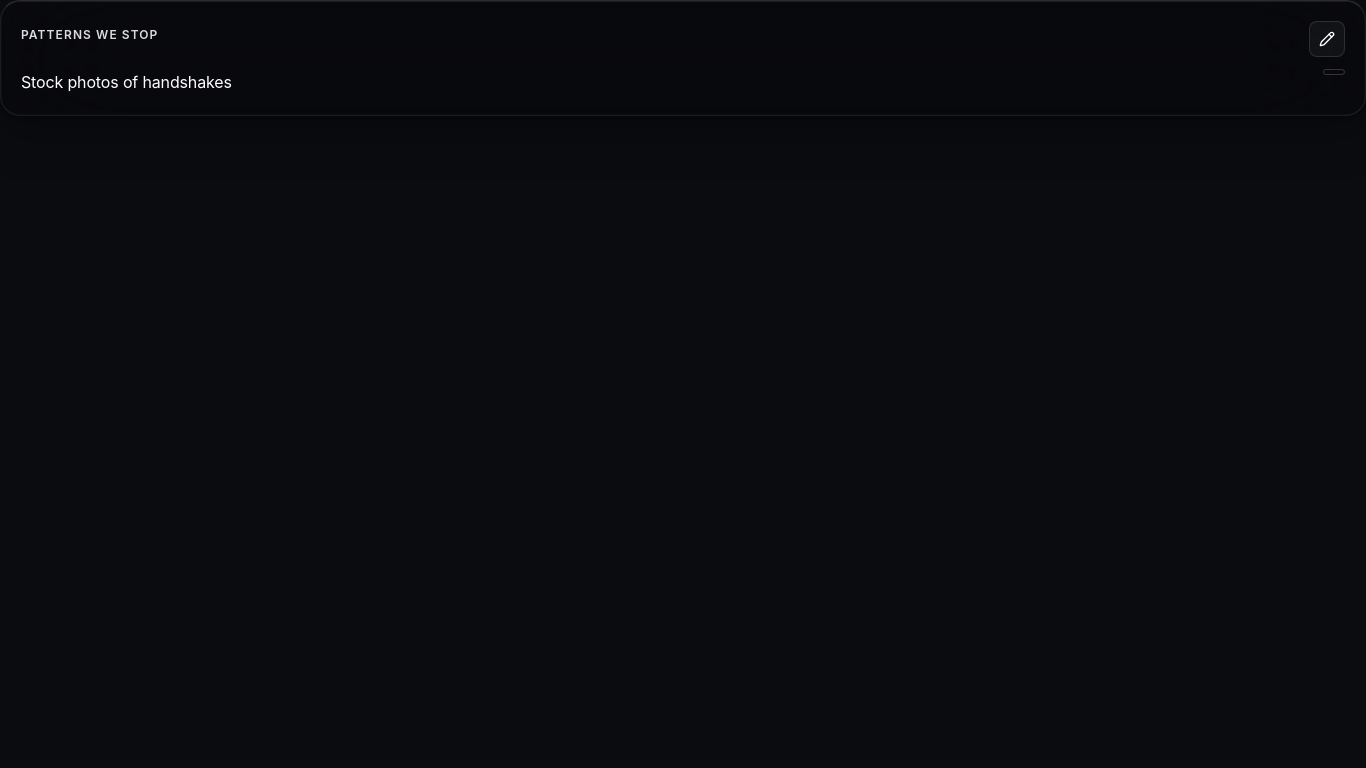
does not lose a failed save because the sheet was closed while it was being sent
Click the button named "Edit what we avoid" at (1327, 39), box [1309,21,1345,57]
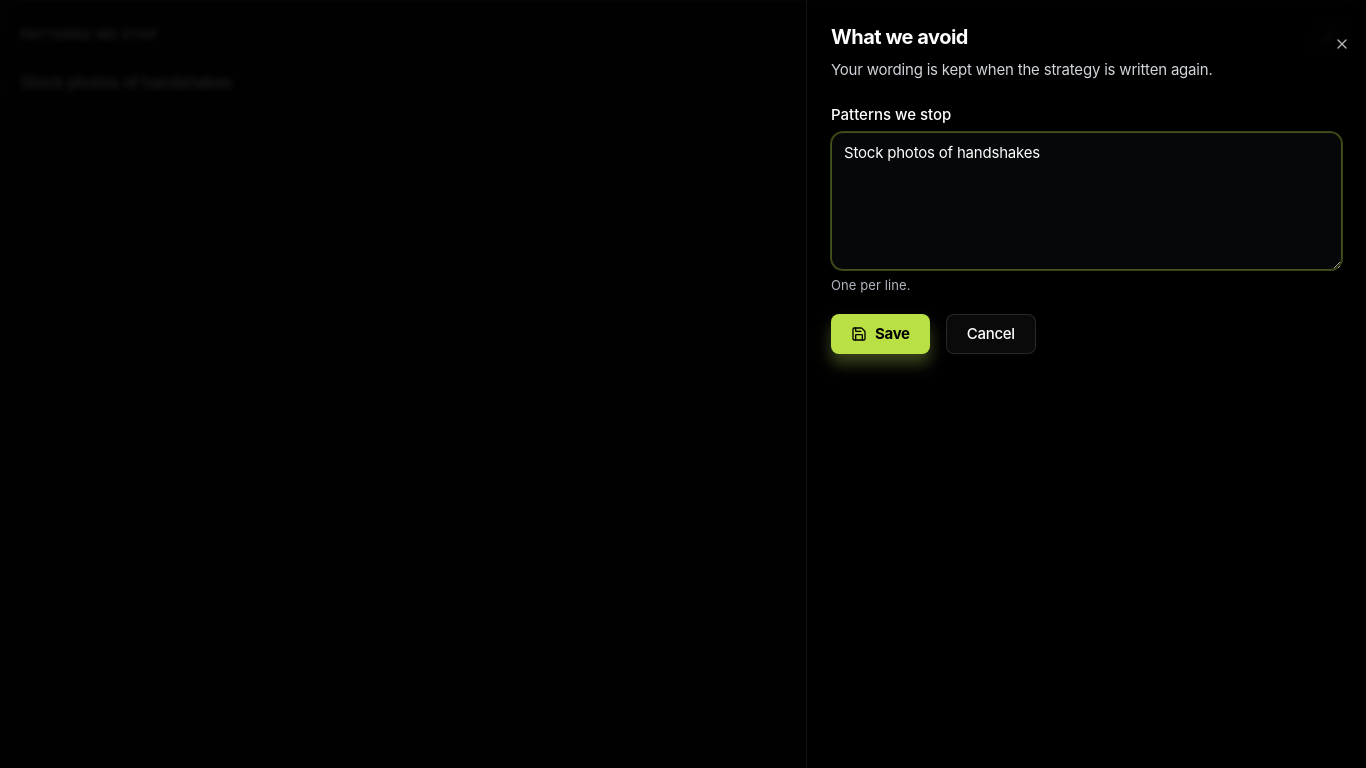
Replace the text in the text box labelled "Patterns we stop" with "Long captions with no hook" at (1086, 201), box [831,132,1342,270]
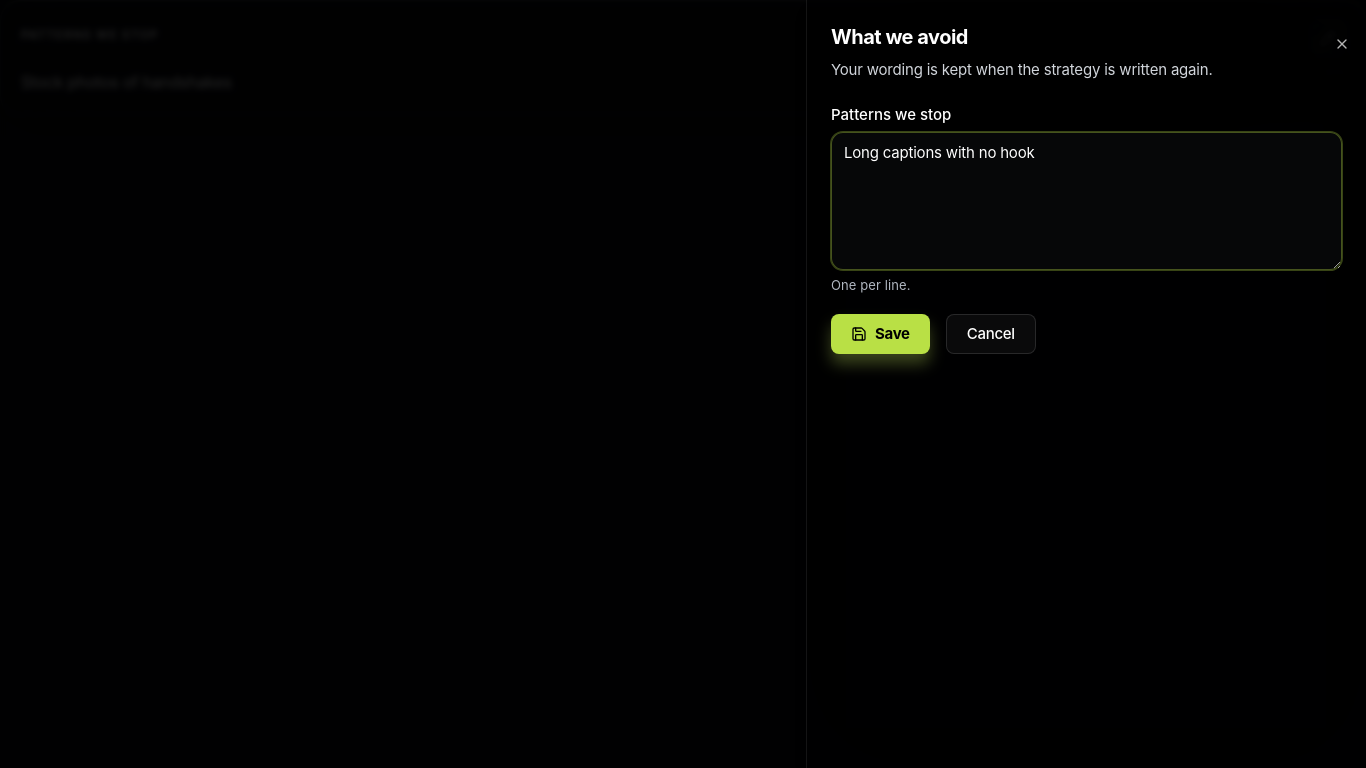
Click the button "Save" at (880, 334), box [831,314,930,354]
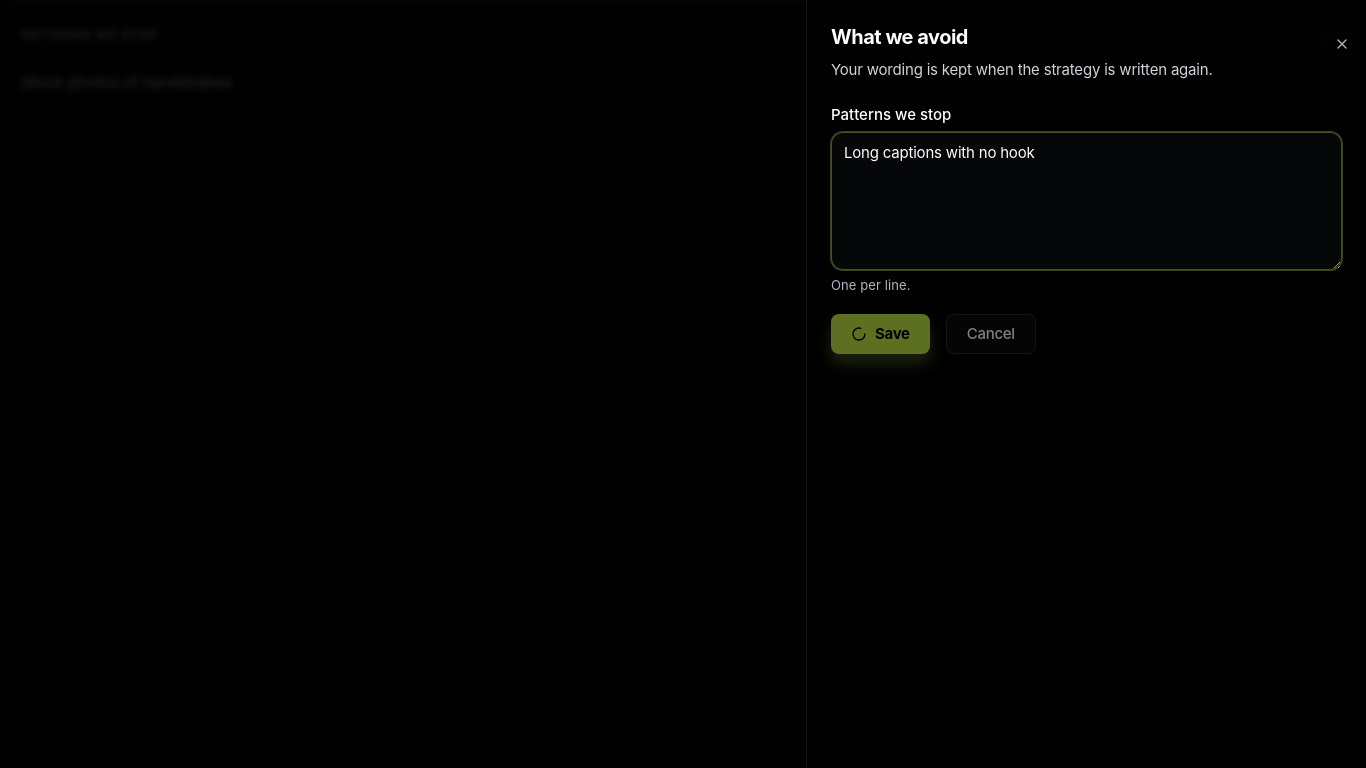
Press Escape in the text box labelled "Patterns we stop", box [831,132,1342,270]
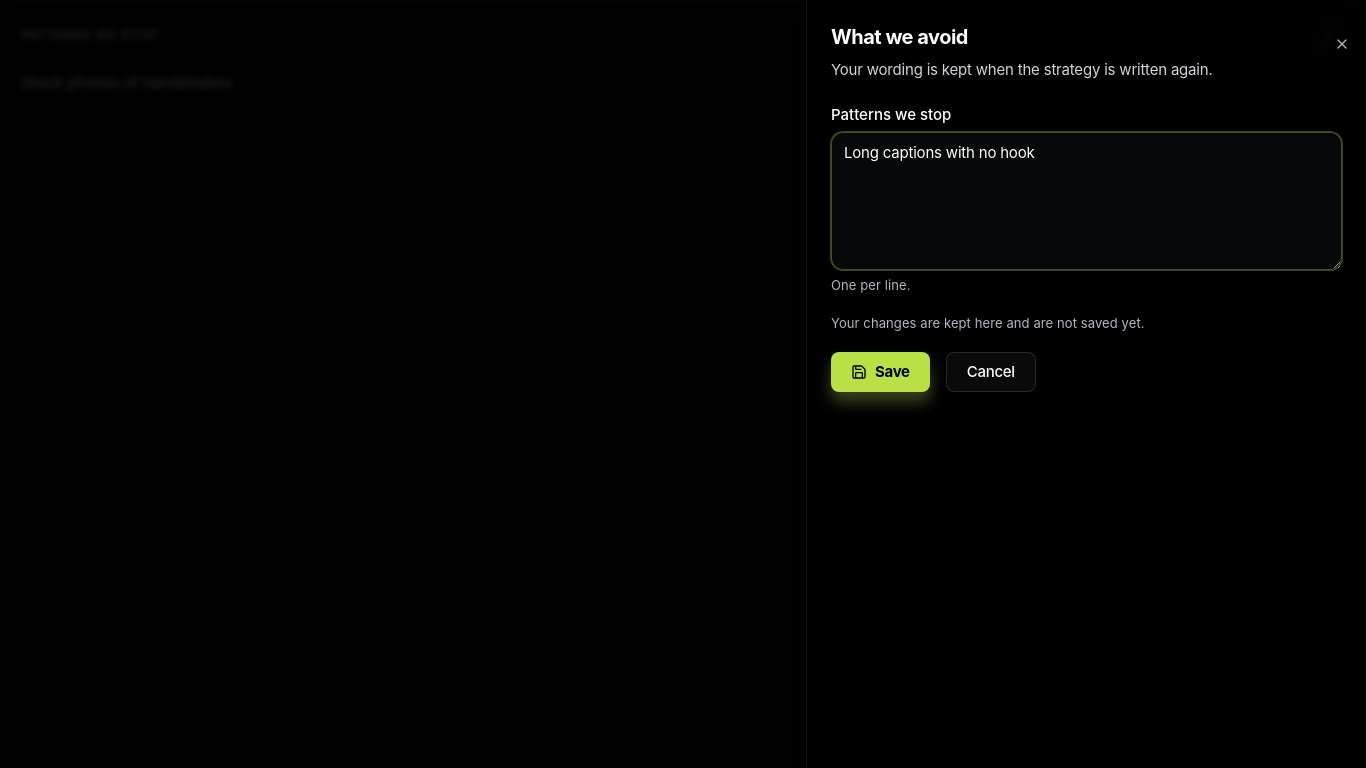
Check: the dialog is shown, box [806,0,1365,767]
Check: the text "Your changes are kept here and are not saved yet." is shown, box [831,315,1145,331]
